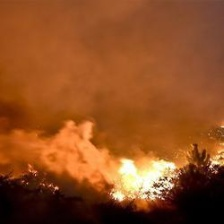fire: (114, 128, 224, 211)
